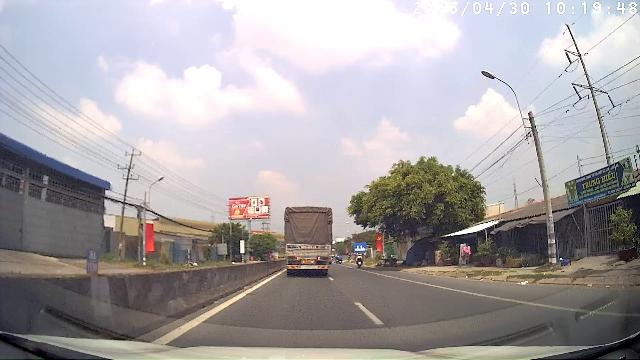420-bat-dau-khu-dong-dan-cu: (354, 243, 366, 252)
